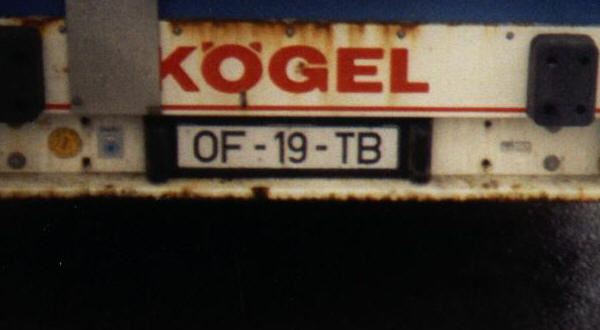license_plate: (174, 123, 403, 175)
